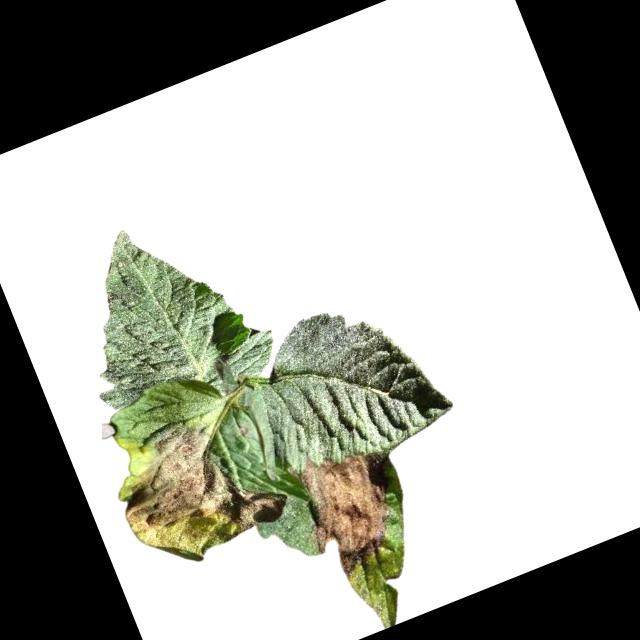Late_blight: (100, 393, 299, 581), (285, 438, 409, 586)
healthy: (43, 191, 286, 436), (233, 276, 463, 487)
